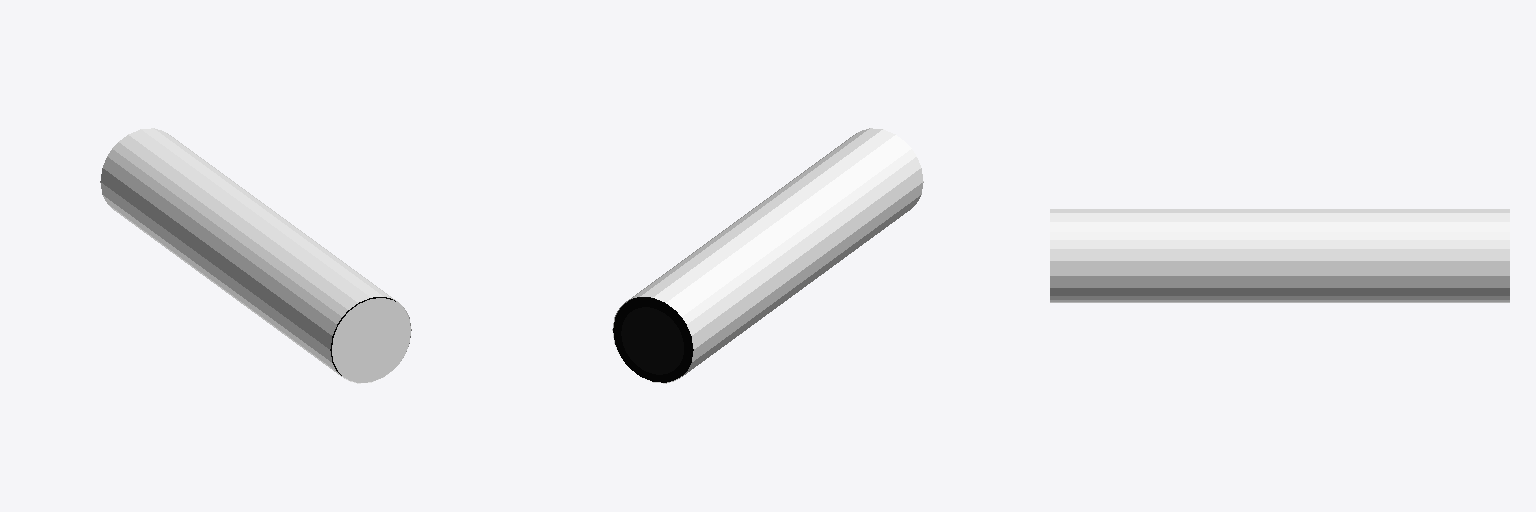
The picture shows the model from 3 angles: view 1: azimuth 30°, elevation 25°; view 2: azimuth 150°, elevation 25°; view 3: azimuth 270°, elevation 25°; orthographic projection.
Parts seen in each view (by area): view 1: Flamethrower3, Flamethrower6, Flamethrower7; view 2: Flamethrower3, Flamethrower6, Flamethrower5, Flamethrower1; view 3: Flamethrower2, Flamethrower6, Flamethrower4.
Part boxes in pixels (x1,y1,x2,y2): Flamethrower3: (100,149,341,376); Flamethrower6: (112,128,397,316); Flamethrower7: (332,298,410,382); Flamethrower3: (682,149,923,376); Flamethrower6: (626,128,911,316); Flamethrower5: (621,307,683,374); Flamethrower1: (613,297,693,382); Flamethrower2: (1050,240,1509,299); Flamethrower6: (1050,209,1509,239); Flamethrower4: (1050,300,1509,302).
Size of the model in its own units: 2.04 by 2.04 by 10.04.
4 materials, 1 textured.